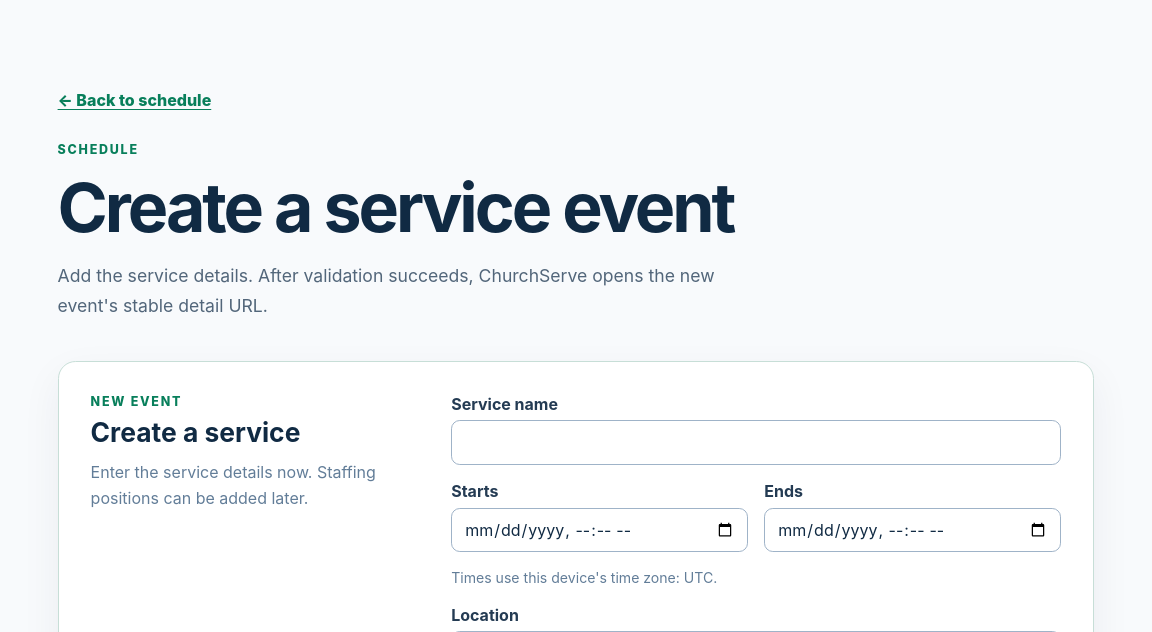
Scenario: ChurchServe application shell › creates an event and navigates to its detail URL
The image size is (1152, 632).
Expected: the heading "Create a service event" is shown, [58,166,733,248]
Type "  Prayer Night  " into the field labelled "Service name" at (756, 443), box [451,420,1061,465]
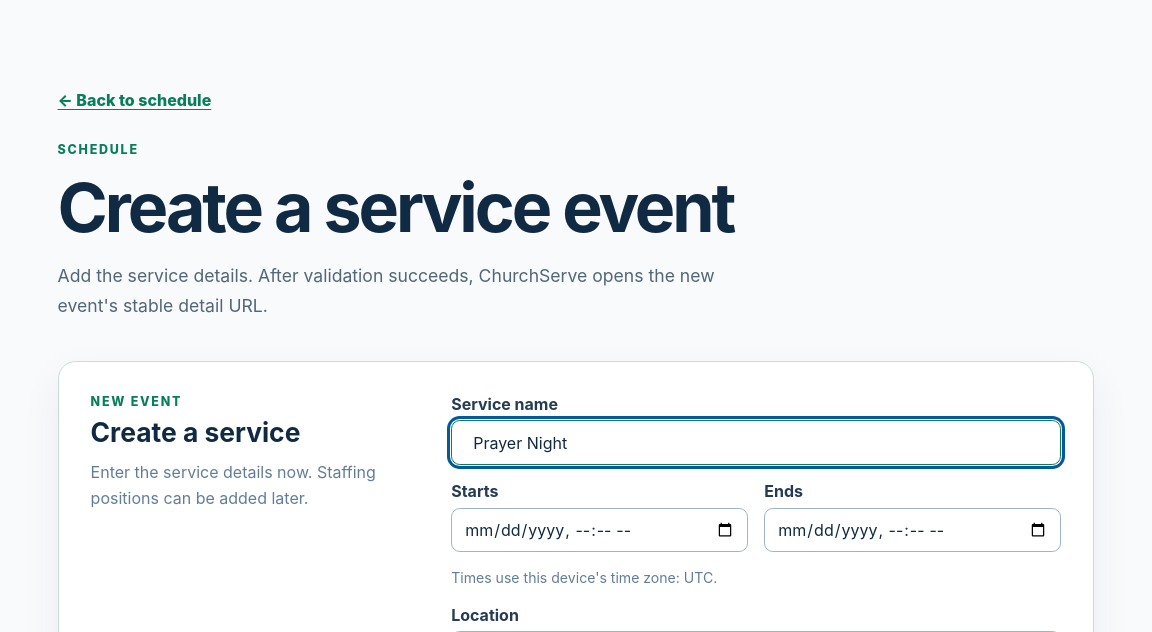
Type "2026-11-06T19:00" into the field labelled "Starts" at (600, 530), box [451,508,748,552]
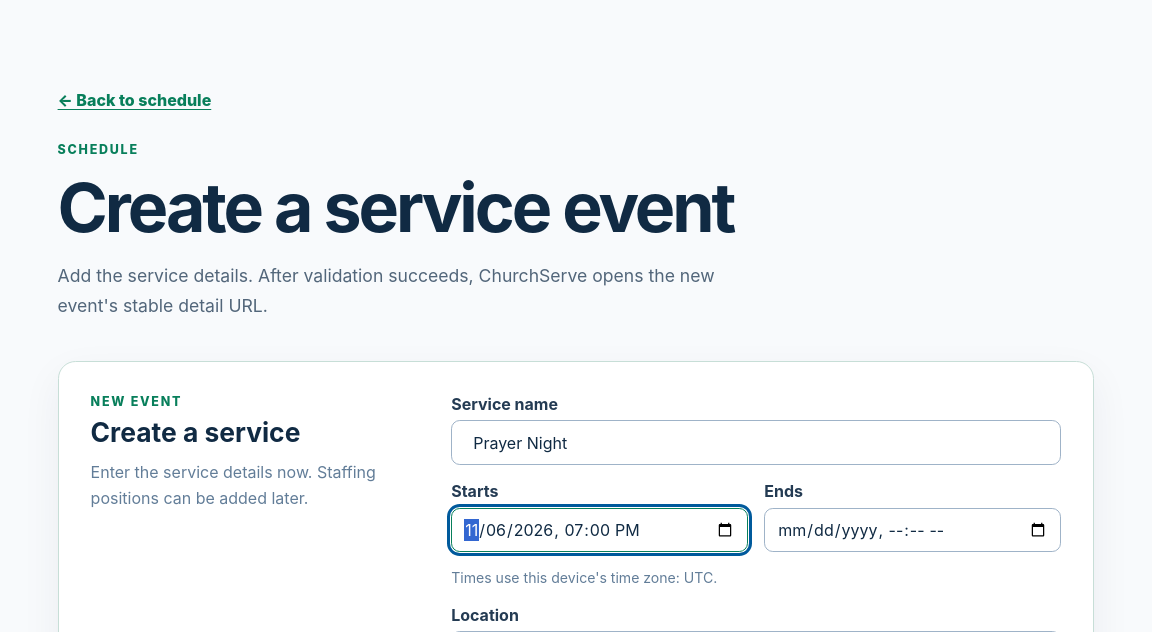
Type "2026-11-06T20:00" into the field labelled "Ends" at (913, 530), box [764,508,1061,552]
(page scrolled)
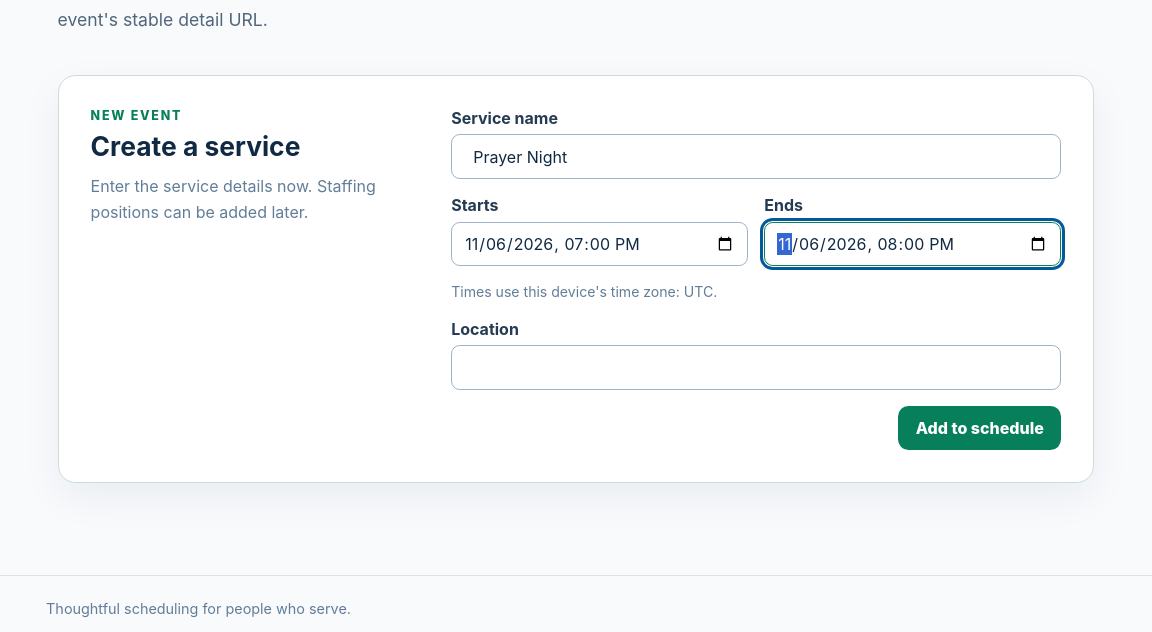
Type "  Chapel  " into the field labelled "Location" at (756, 368), box [451,345,1061,390]
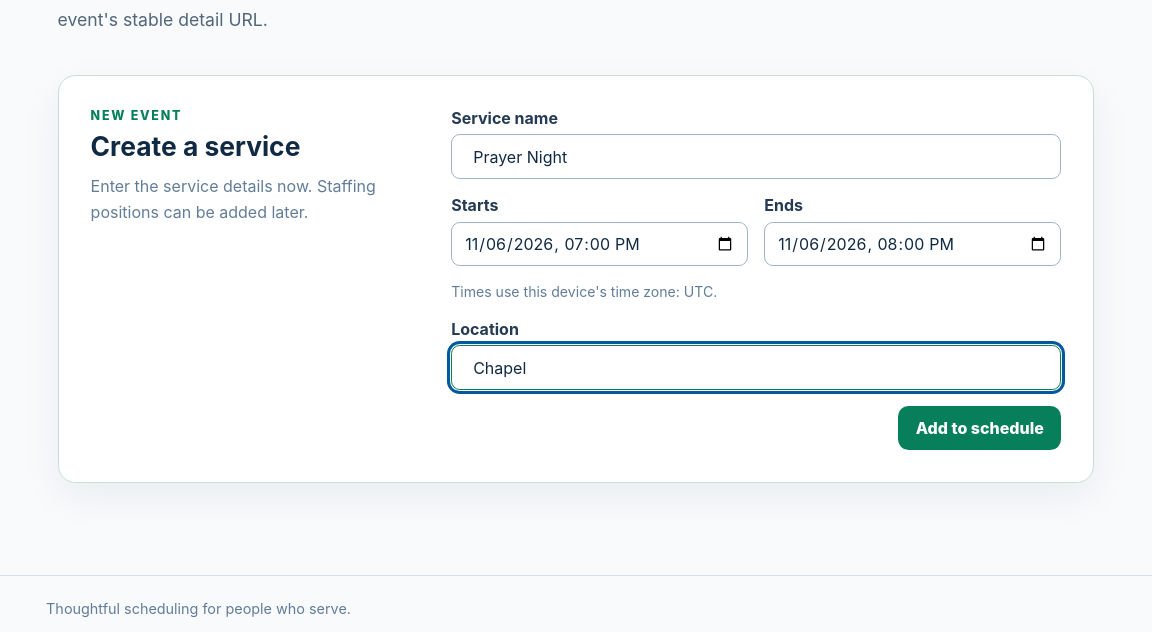
Click the button "Add to schedule" at (980, 428), box [898,406,1061,450]
(page scrolled)
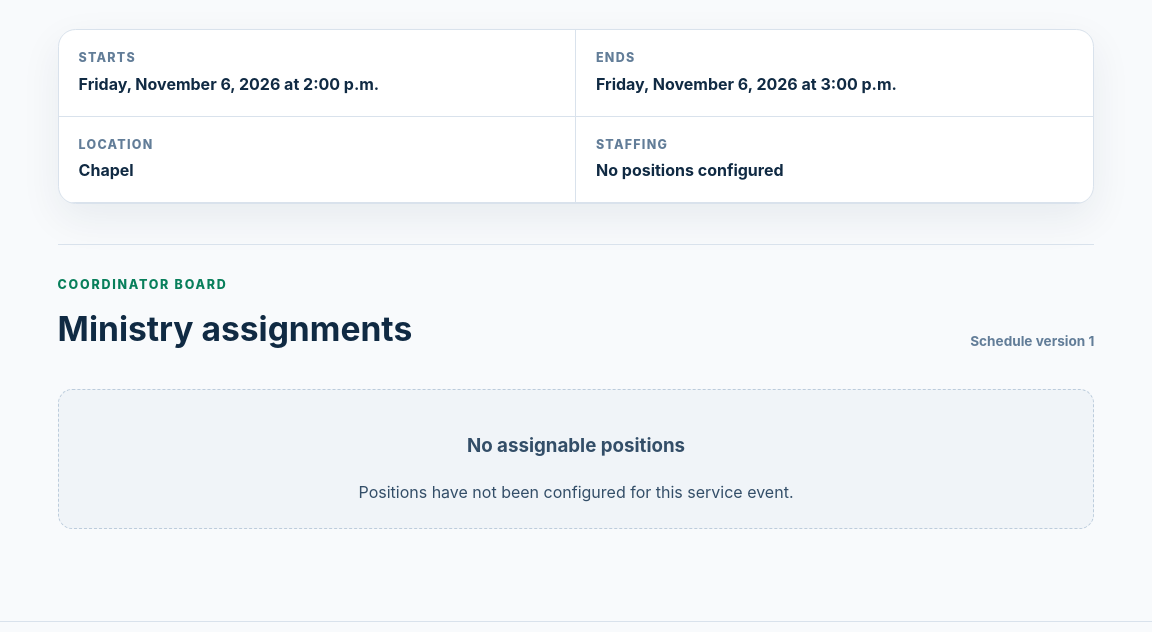
Result: the text "Chapel" is shown at [79,160,134,180]
